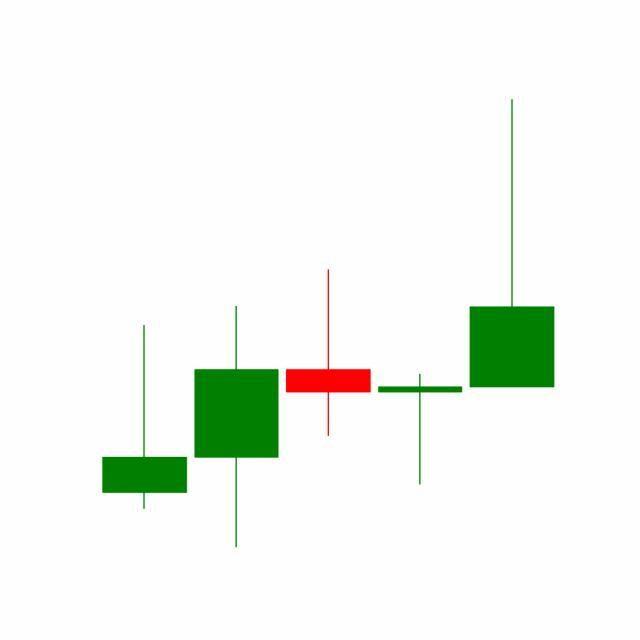Dragonfly Doji: (374, 372, 468, 487)
